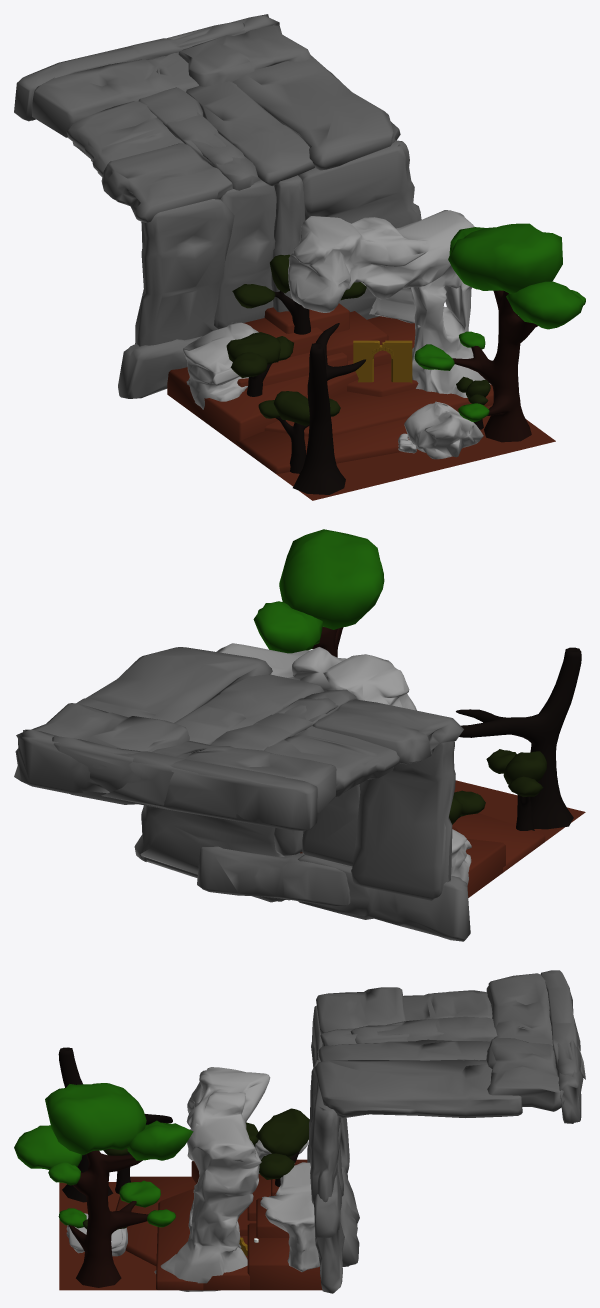
Rendered from SM_Section_1A_Smooth (1).FBX.
3 views of the same model, one above another, from view 1: azimuth 30°, elevation 25°; view 2: azimuth 150°, elevation 25°; view 3: azimuth 270°, elevation 25° (orthographic). The views are drawn at different scales.
Parts seen in each view (by area): view 1: Object009, Object002, Land, Object006, Big_Tree_new, SM_Broken_Tree_1, Object005, Object004, Medium_Tree_1, Medium_Tree_003, Medium_Tree_002, Ruins 2 (+2 smaller); view 2: Object009, Object002, Big_Tree_new, SM_Broken_Tree_1, Object006, Land, Medium_Tree_002, Object005, Medium_Tree_1; view 3: Object009, Big_Tree_new, Land, Object006, Object002, Cliff 1, Medium_Tree_003, SM_Broken_Tree_1, Object004, Medium_Tree_002.
Part boxes in pixels (x1=…): Object009: x1=14, y1=14, x2=400, y2=222; Object002: x1=118, y1=140, x2=421, y2=398; Land: x1=167, y1=303, x2=555, y2=500; Object006: x1=288, y1=210, x2=485, y2=397; Big_Tree_new: x1=414, y1=223, x2=585, y2=442; SM_Broken_Tree_1: x1=293, y1=323, x2=365, y2=494; Object005: x1=183, y1=322, x2=258, y2=409; Object004: x1=404, y1=401, x2=483, y2=459; Medium_Tree_1: x1=226, y1=332, x2=293, y2=396; Medium_Tree_003: x1=232, y1=254, x2=366, y2=334; Medium_Tree_002: x1=258, y1=391, x2=340, y2=473; Ruins 2: x1=353, y1=340, x2=412, y2=383; Object009: x1=14, y1=647, x2=463, y2=831; Object002: x1=134, y1=741, x2=470, y2=941; Big_Tree_new: x1=253, y1=529, x2=384, y2=657; SM_Broken_Tree_1: x1=456, y1=647, x2=581, y2=829; Object006: x1=216, y1=643, x2=416, y2=710; Land: x1=300, y1=780, x2=585, y2=897; Medium_Tree_002: x1=486, y1=749, x2=547, y2=830; Object005: x1=451, y1=829, x2=471, y2=885; Medium_Tree_1: x1=449, y1=790, x2=485, y2=824; Object009: x1=313, y1=970, x2=585, y2=1123; Big_Tree_new: x1=14, y1=1083, x2=193, y2=1287; Land: x1=59, y1=1159, x2=322, y2=1290; Object006: x1=154, y1=1067, x2=270, y2=1291; Object002: x1=307, y1=1006, x2=359, y2=1293; Cliff 1: x1=260, y1=1162, x2=320, y2=1271; Medium_Tree_003: x1=256, y1=1108, x2=309, y2=1186; SM_Broken_Tree_1: x1=58, y1=1047, x2=172, y2=1202; Object004: x1=66, y1=1213, x2=127, y2=1256; Medium_Tree_002: x1=103, y1=1148, x2=130, y2=1194.
Size of the model in its own units: 2031 by 1465 by 3517.
